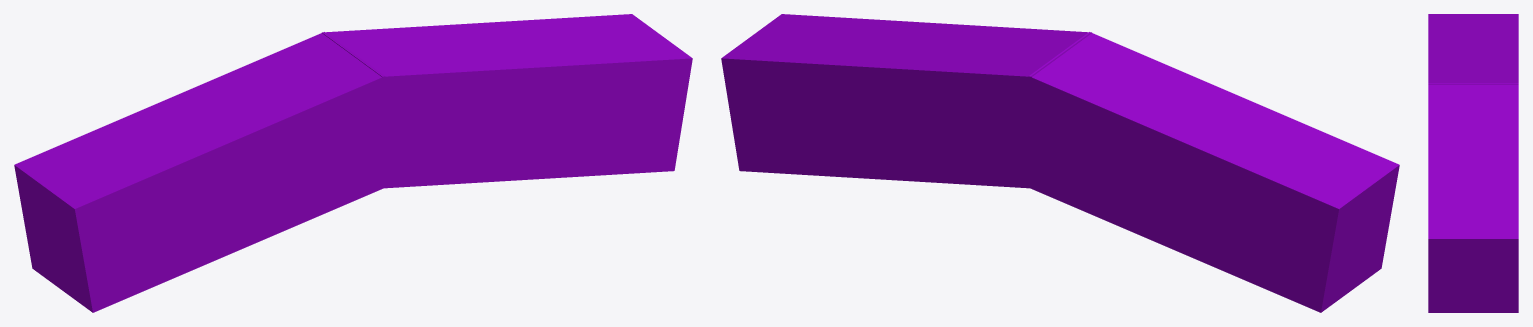
The model's file is slope10.dae.
3 renders of one model, left to right at view 1: azimuth 30°, elevation 25°; view 2: azimuth 150°, elevation 25°; view 3: azimuth 270°, elevation 25°, orthographic. The views are drawn at different scales.
Parts seen in each view (by area): view 1: Cube_015, Cube_014; view 2: Cube_015, Cube_014; view 3: Cube_014, Cube_015.
Part boxes in pixels (x1,y1,x2,y2): Cube_015: (14,32,384,312); Cube_014: (322,14,692,189); Cube_015: (1010,32,1399,312); Cube_014: (721,14,1091,188); Cube_014: (1428,83,1518,312); Cube_015: (1428,14,1518,84).
Size of the model in its own units: 11.77 by 2 by 3.01.
